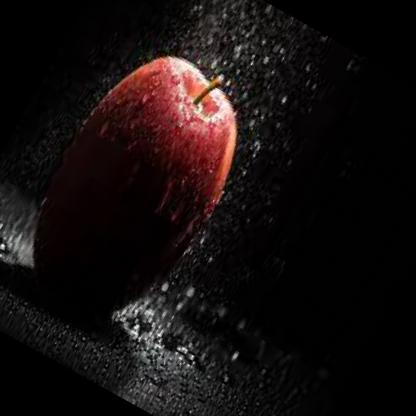apple: (3, 24, 278, 349)
